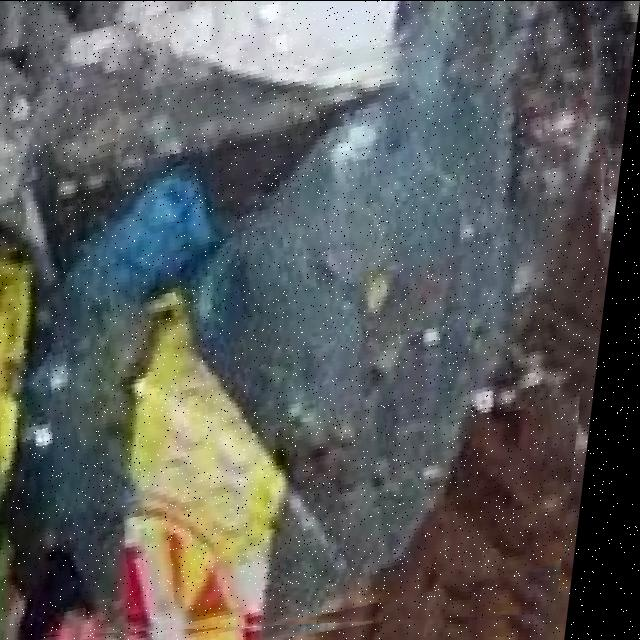plasticbottle: (0, 0, 607, 633)
